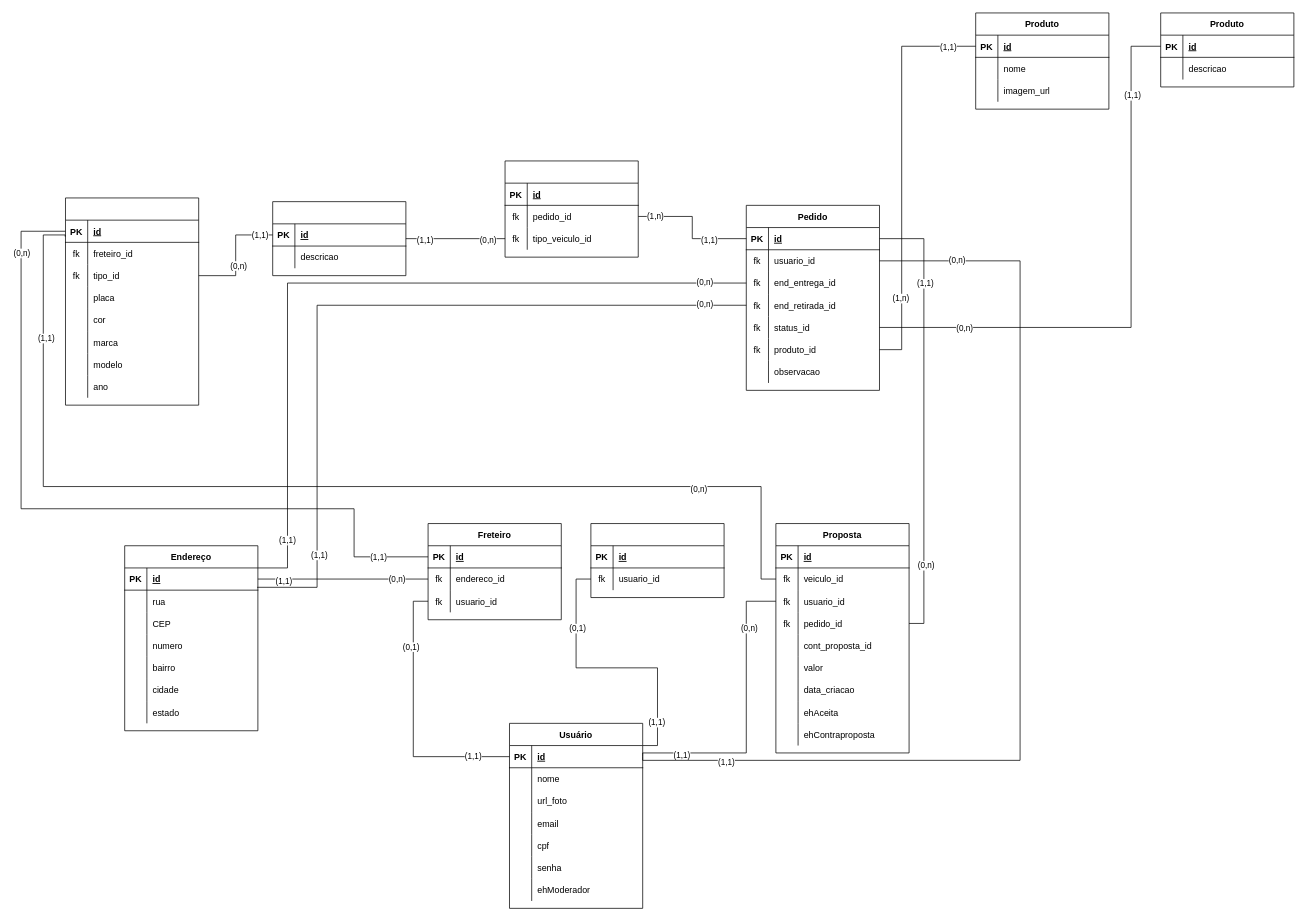
The diagram is 1307 pixels wide and 921 high, and some of its shapes have lost their labels. Here are the shapes that lost their labels. From the top down, the box of each, then its label:
(504, 160, 638, 257): PedidoTipoVeiculo
(272, 201, 406, 276): TipoVeiculo
(65, 197, 199, 405): Veiculo
(590, 523, 724, 598): Cliente
